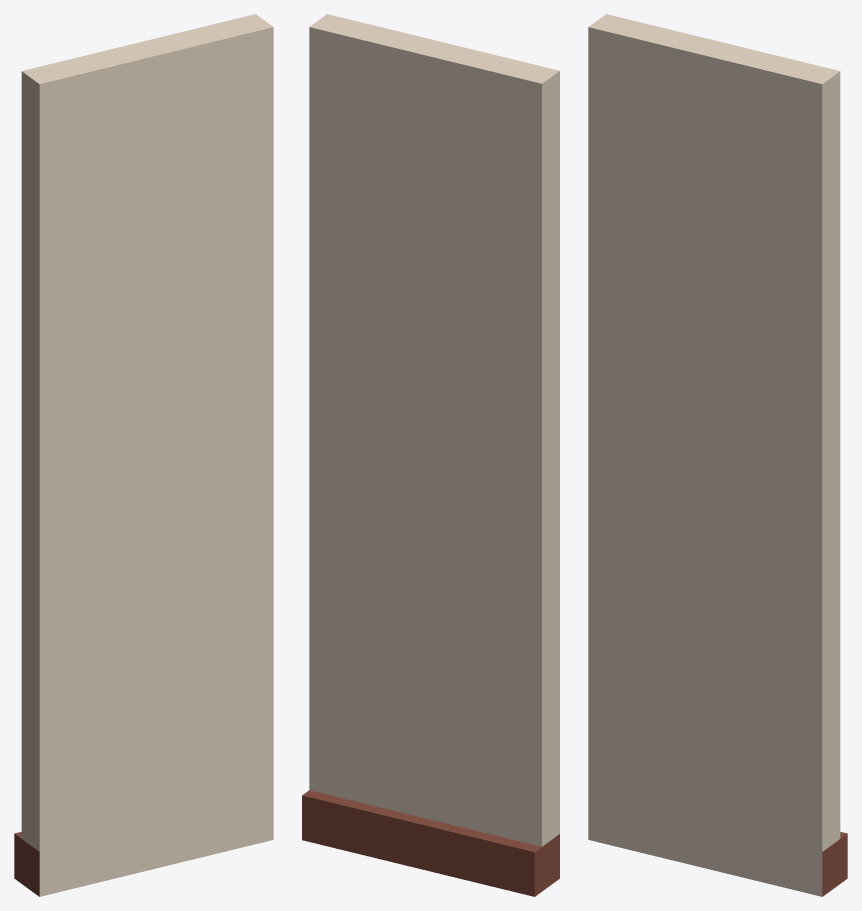
Rendered from Wall_01.fbx.
The picture shows the model from 3 angles, left to right: view 1: azimuth 30°, elevation 25°; view 2: azimuth 150°, elevation 25°; view 3: azimuth 330°, elevation 25°; orthographic projection.
Visible parts, largest first — view 1: Cube.066; view 2: Cube.066; view 3: Cube.066.
Boxes of the visible parts, left/top/right/bottom form: Cube.066: left=14, top=14, right=273, bottom=896; Cube.066: left=302, top=14, right=559, bottom=896; Cube.066: left=588, top=14, right=847, bottom=896.
Size of the model in its own units: 1.88 by 0.3513 by 6.25.
